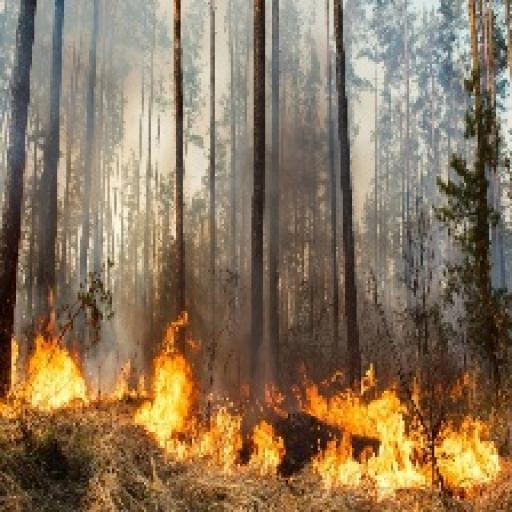fire and smoke: (295, 389, 498, 491), (135, 357, 240, 469), (23, 336, 89, 409), (249, 418, 290, 469)
